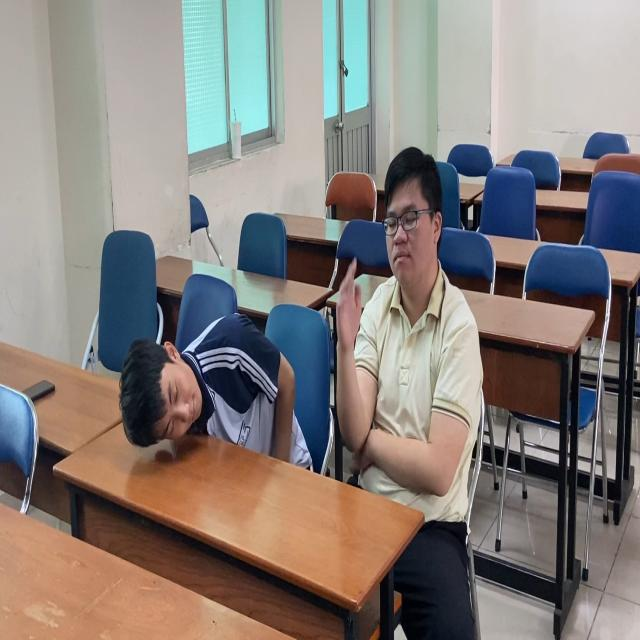raise_hand: (332, 136, 478, 506)
sleep: (119, 310, 303, 475)
